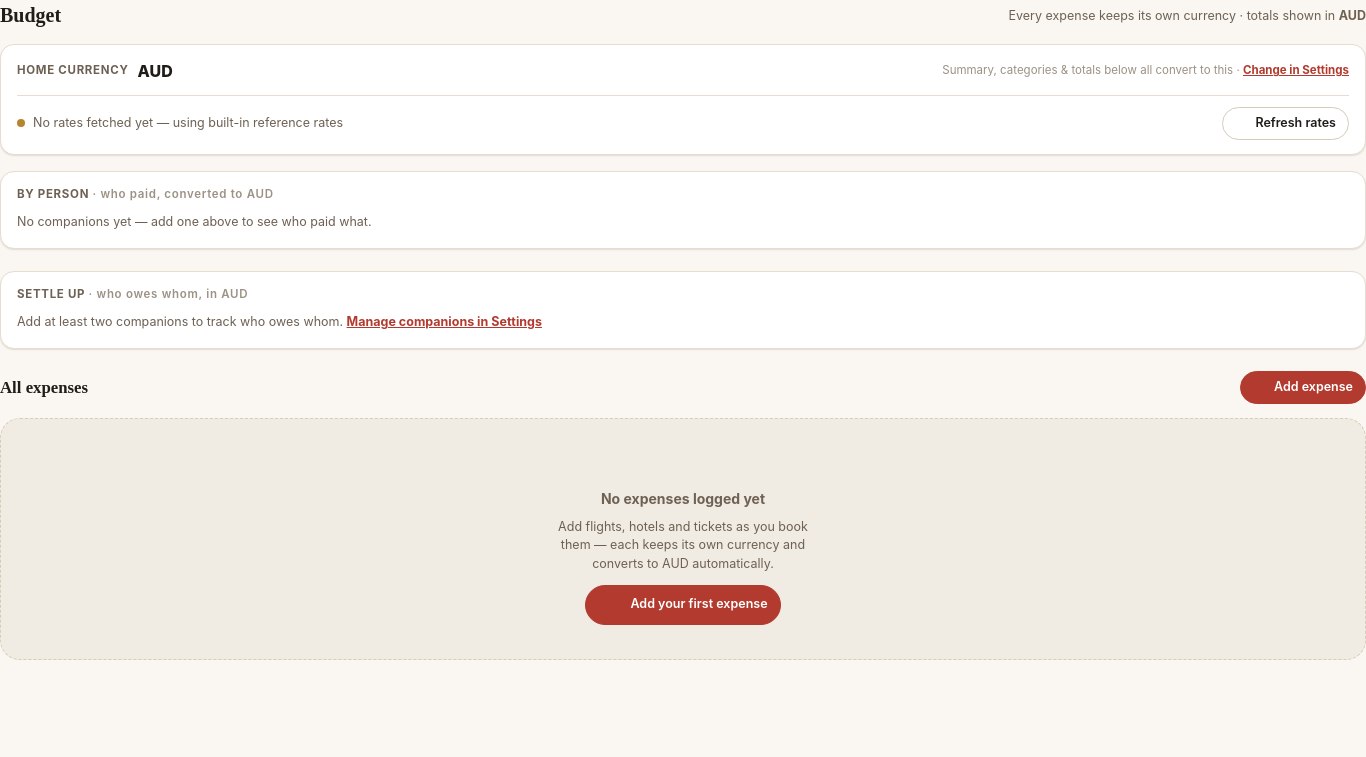
BudgetPanel — add-expense currency default › defaults currency to the attached city (Singapore -> SGD, Shanghai -> CNY), and "Whole trip" -> home currency
This screenshot has width=1366, height=757.
Click the button "Add expense".
click(1303, 387)  # box x1=1240 y1=371 x2=1365 y2=404
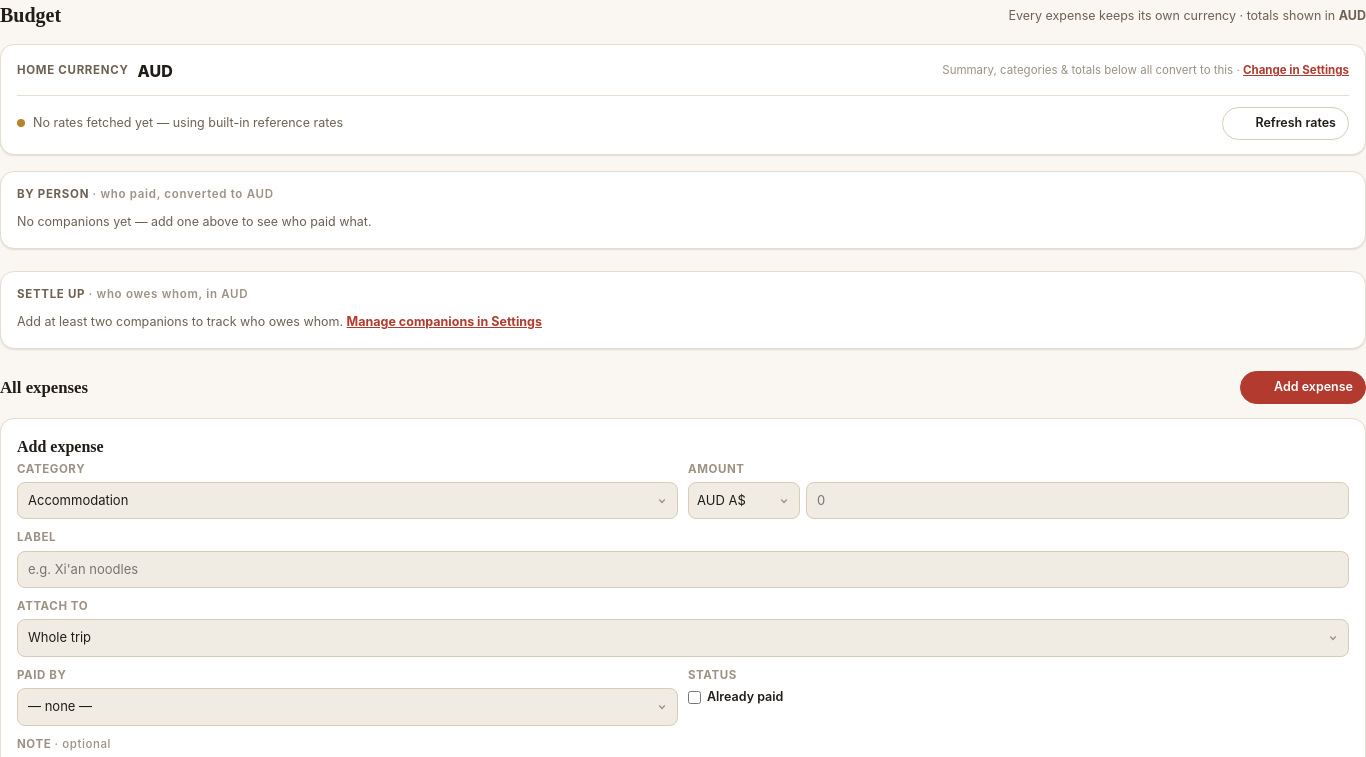
Select "Singapore" in the dropdown labelled "Attach to" at [683, 638], box x1=17 y1=619 x2=1349 y2=657
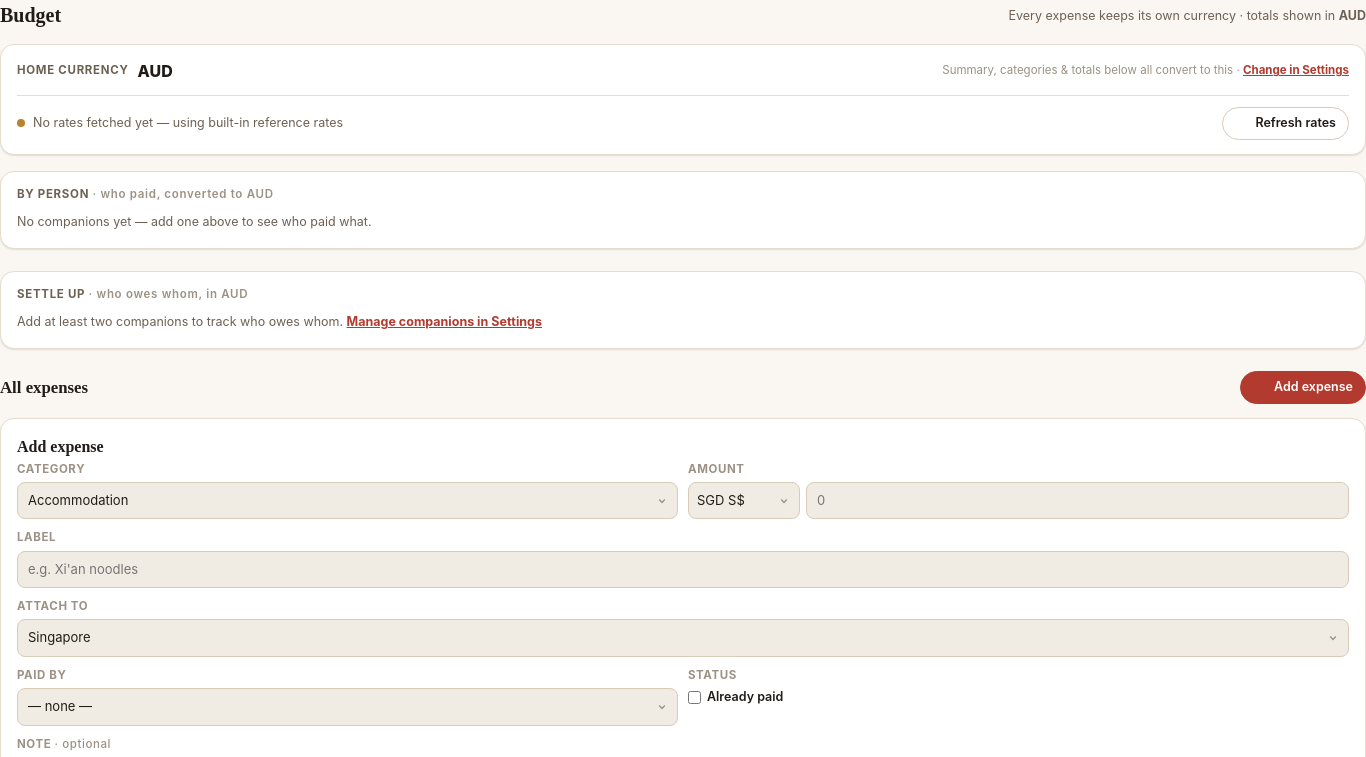
Result: the dropdown named "Currency paid in" shows "SGD S$" at x1=688 y1=482 x2=800 y2=519
Select "Shanghai" in the dropdown labelled "Attach to" at [683, 638], box x1=17 y1=619 x2=1349 y2=657
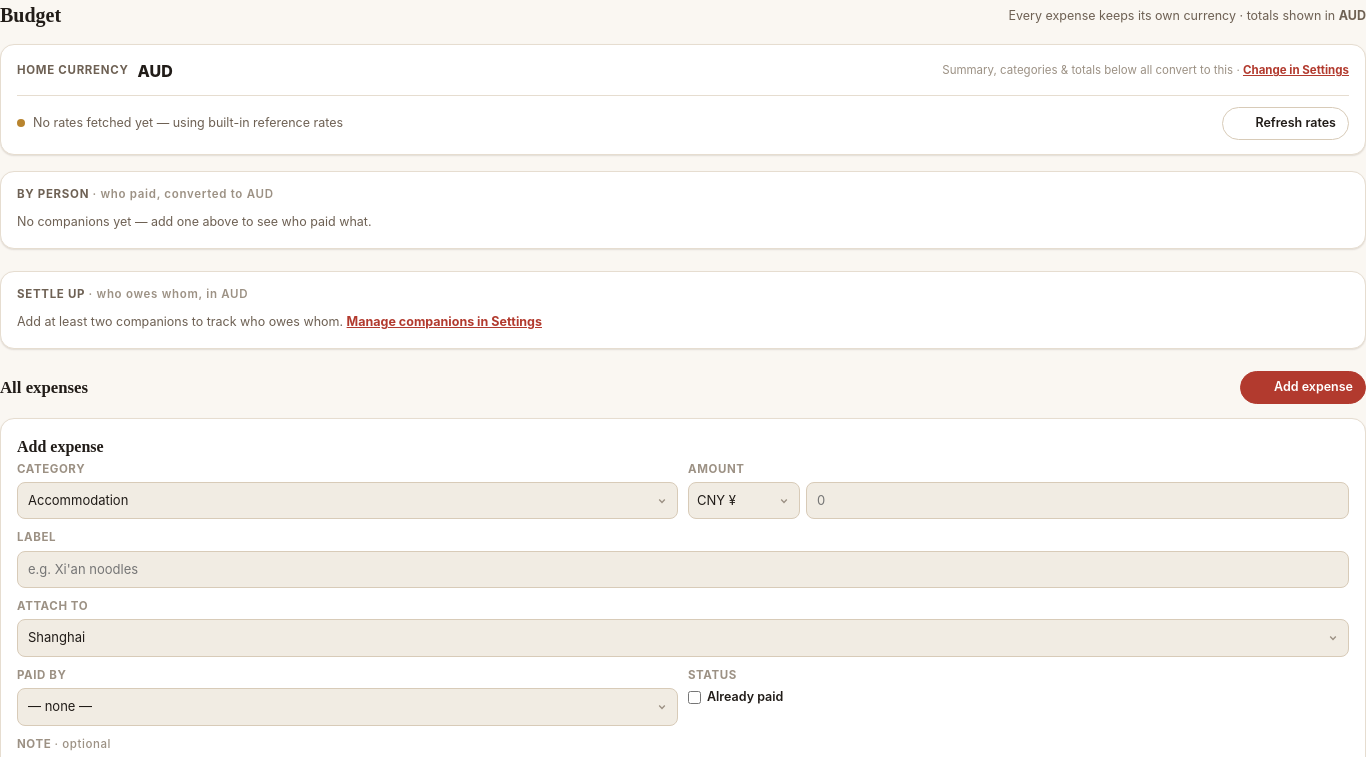
Result: the dropdown named "Currency paid in" shows "CNY ¥" at x1=688 y1=482 x2=800 y2=519
Select "Whole trip" in the dropdown labelled "Attach to" at [683, 638], box x1=17 y1=619 x2=1349 y2=657
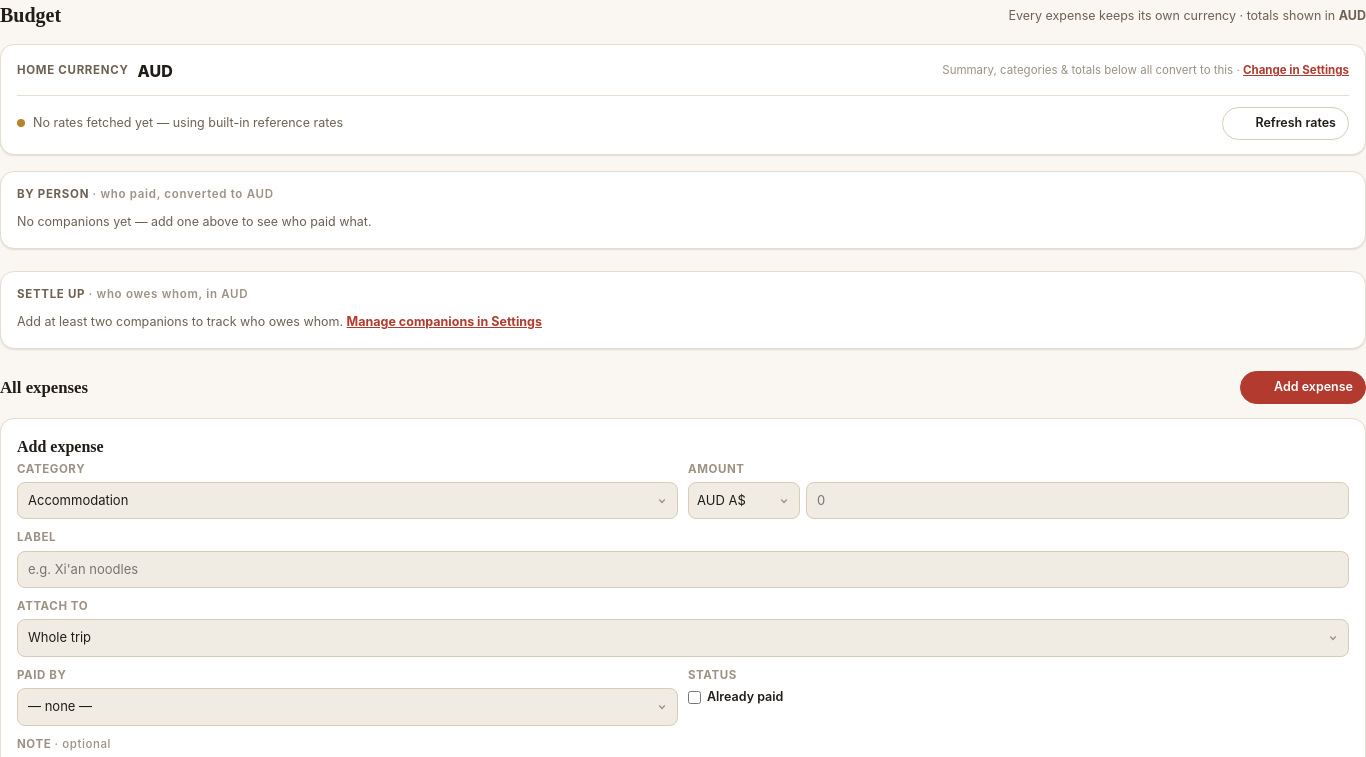
Result: the dropdown named "Currency paid in" shows "AUD A$" at x1=688 y1=482 x2=800 y2=519
